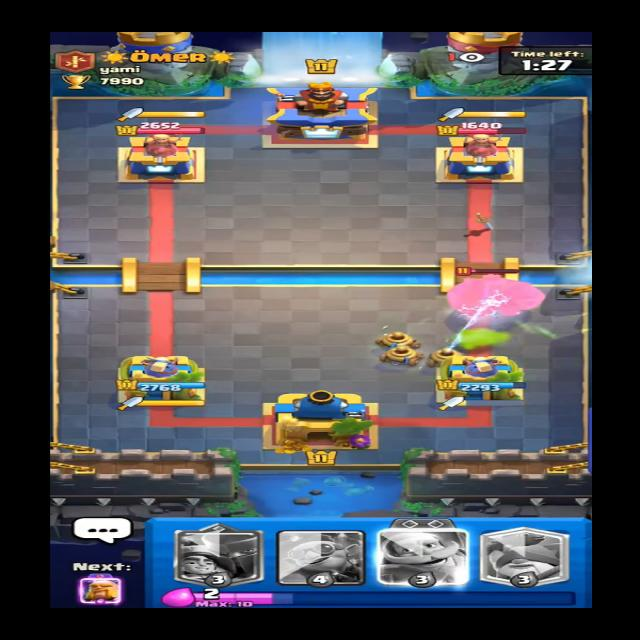royal-giant: (444, 267, 552, 320)
